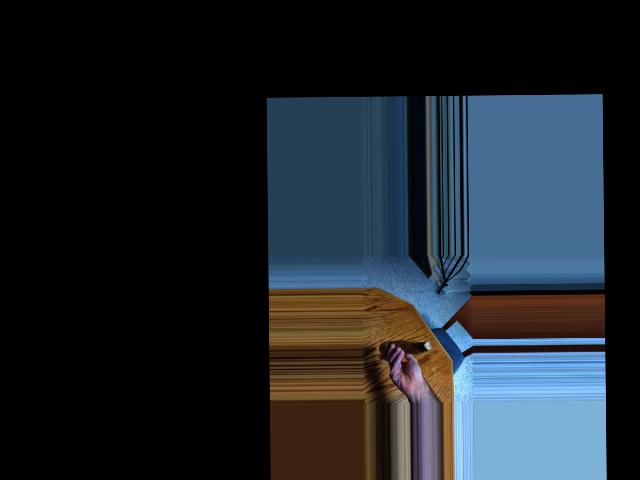sweet_potato: (382, 335, 427, 358)
